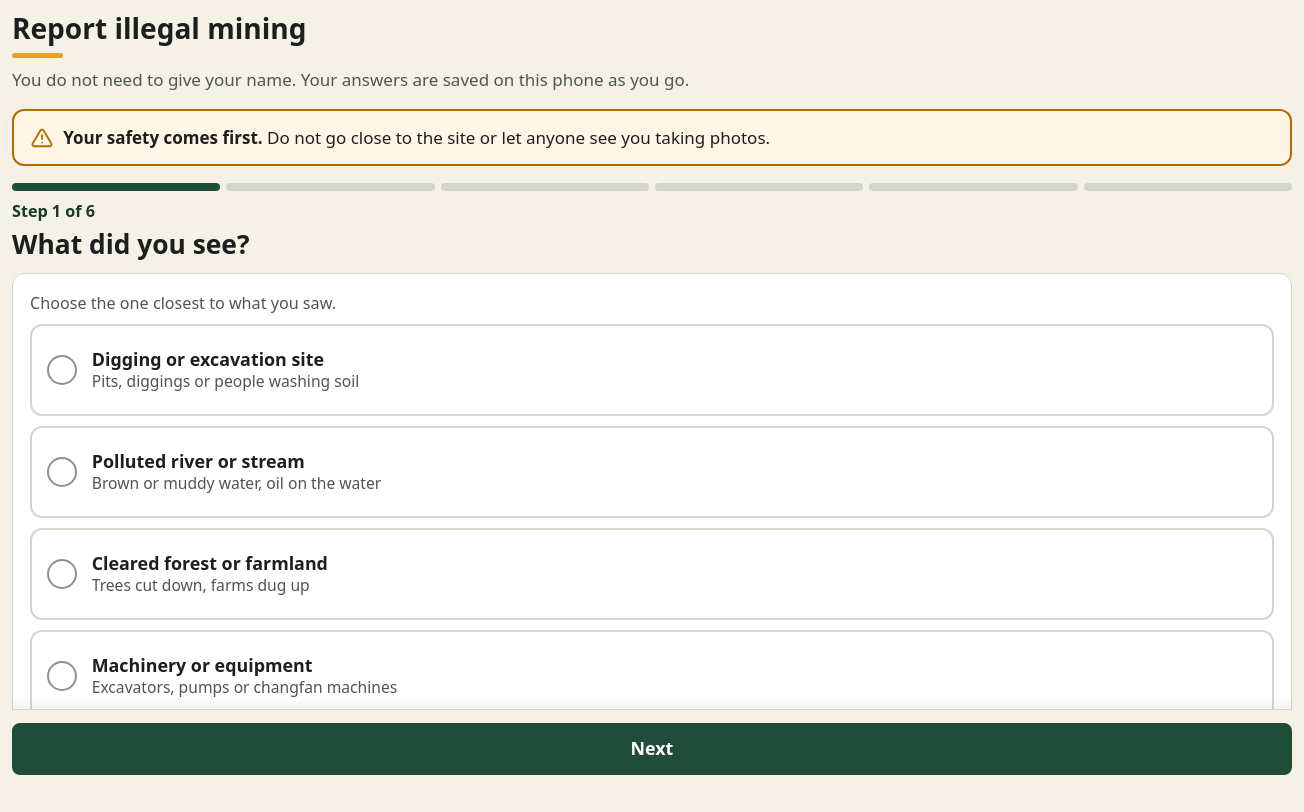
Scenario: ReportPage, step by step › checks a field when the reporter leaves it, but not when they only pass through
The width and height of the screenshot is (1304, 812).
Click the radio button labelled "Digging or excavation site": [208, 359] box [30, 324, 1274, 416]
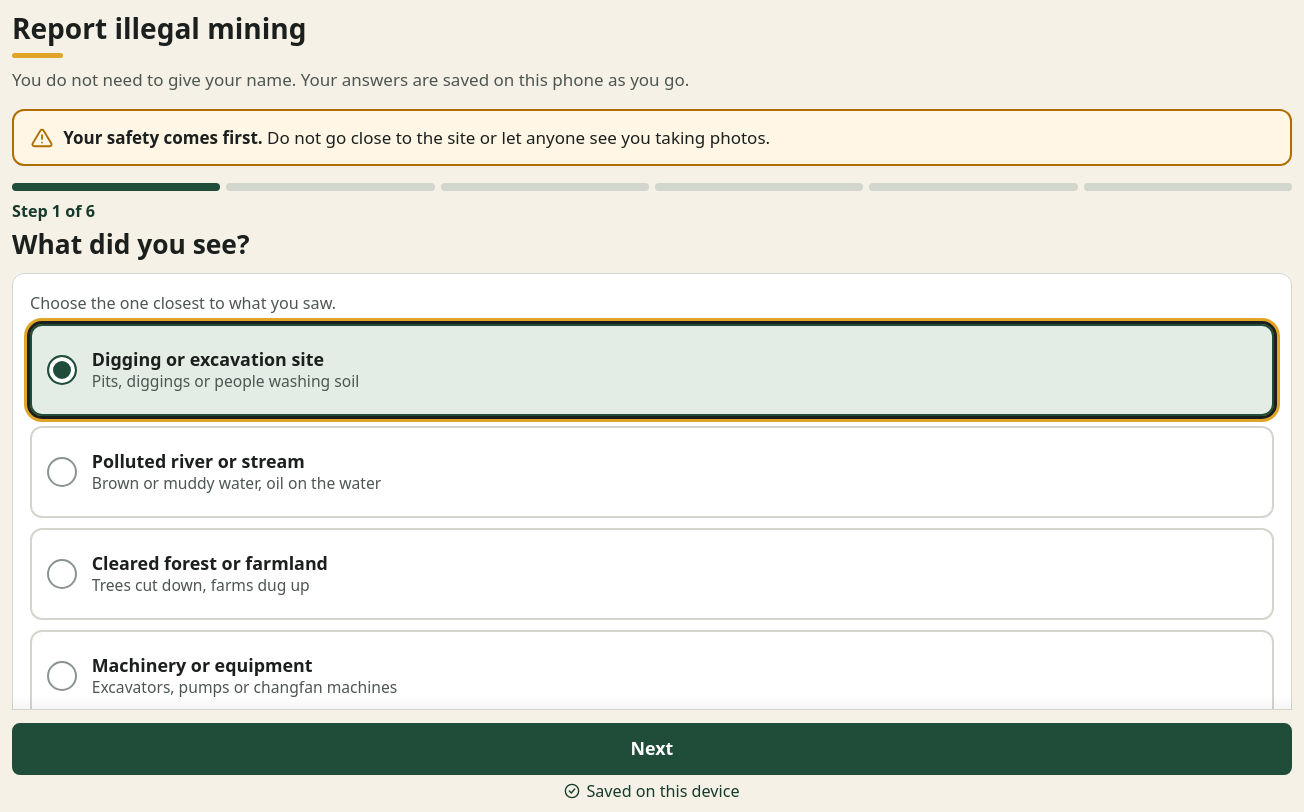
Click the button "Next": [652, 749] box [12, 723, 1292, 775]
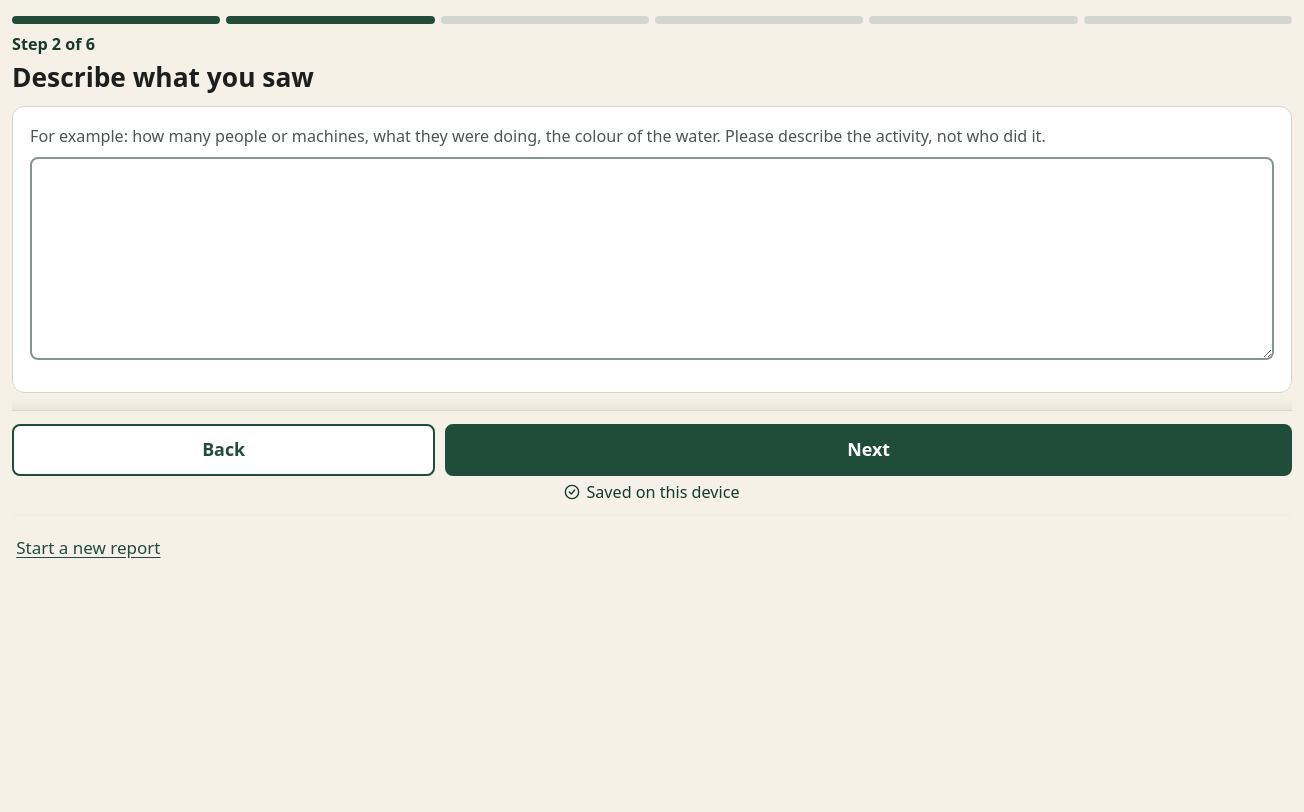
Click the text box named "Describe what you saw": [652, 259] box [30, 157, 1274, 360]
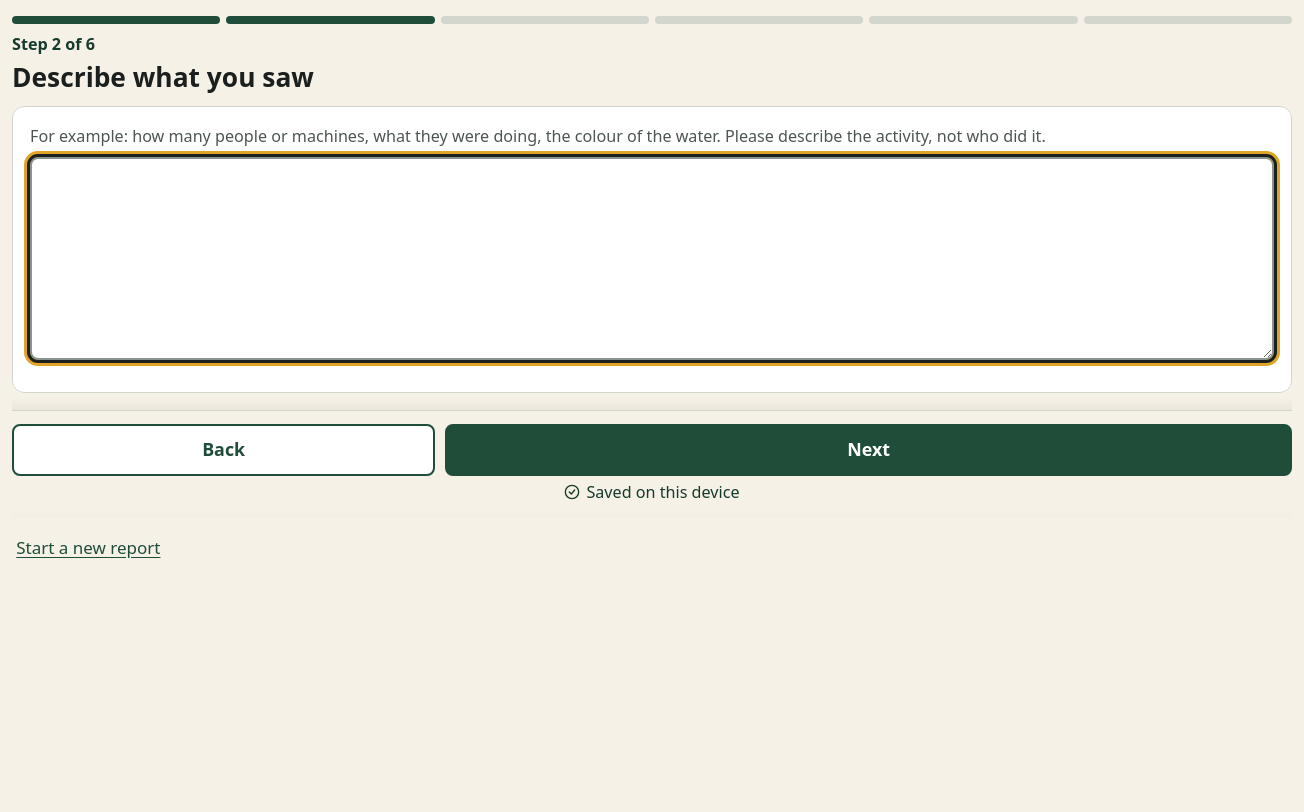
Press Tab
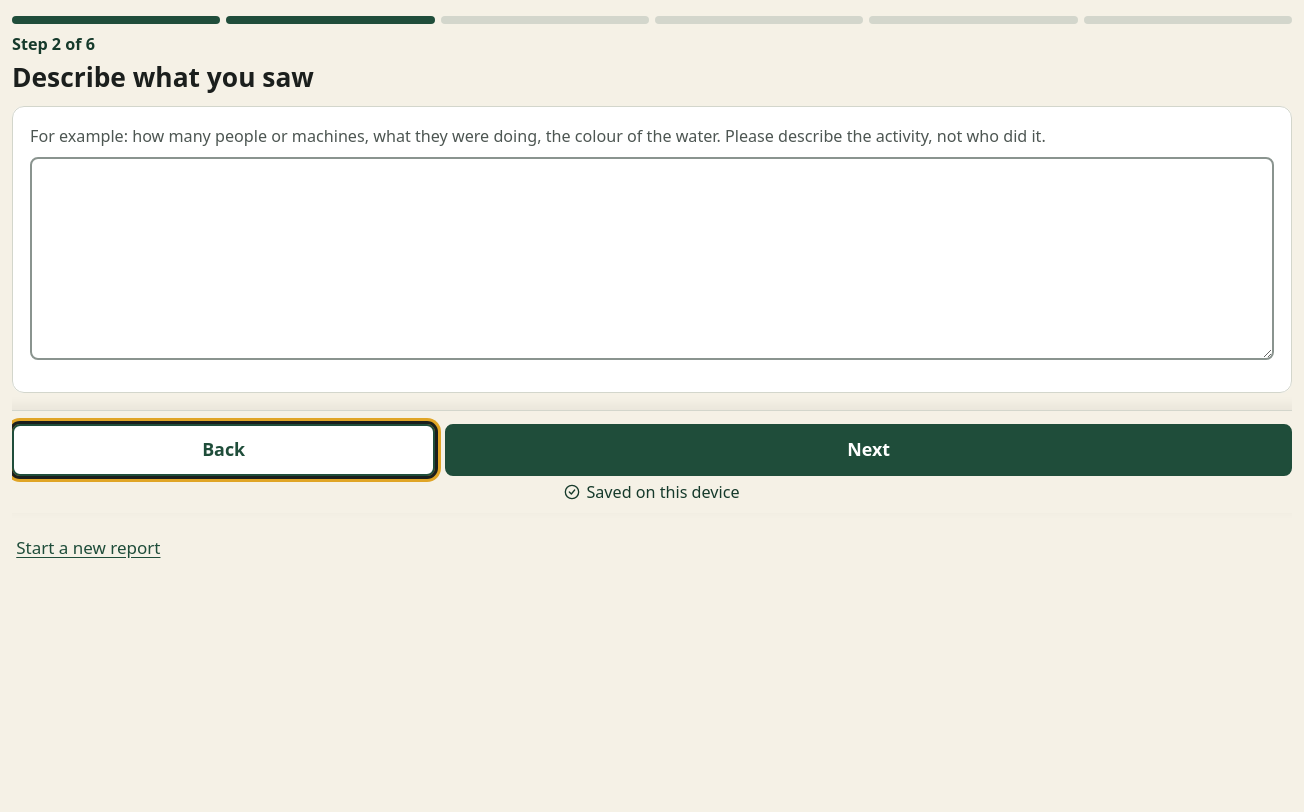
Expected: the text "at least 10 characters" is not shown
In the text box named "Describe what you saw": [652, 259] box [30, 157, 1274, 360], type "diggers"
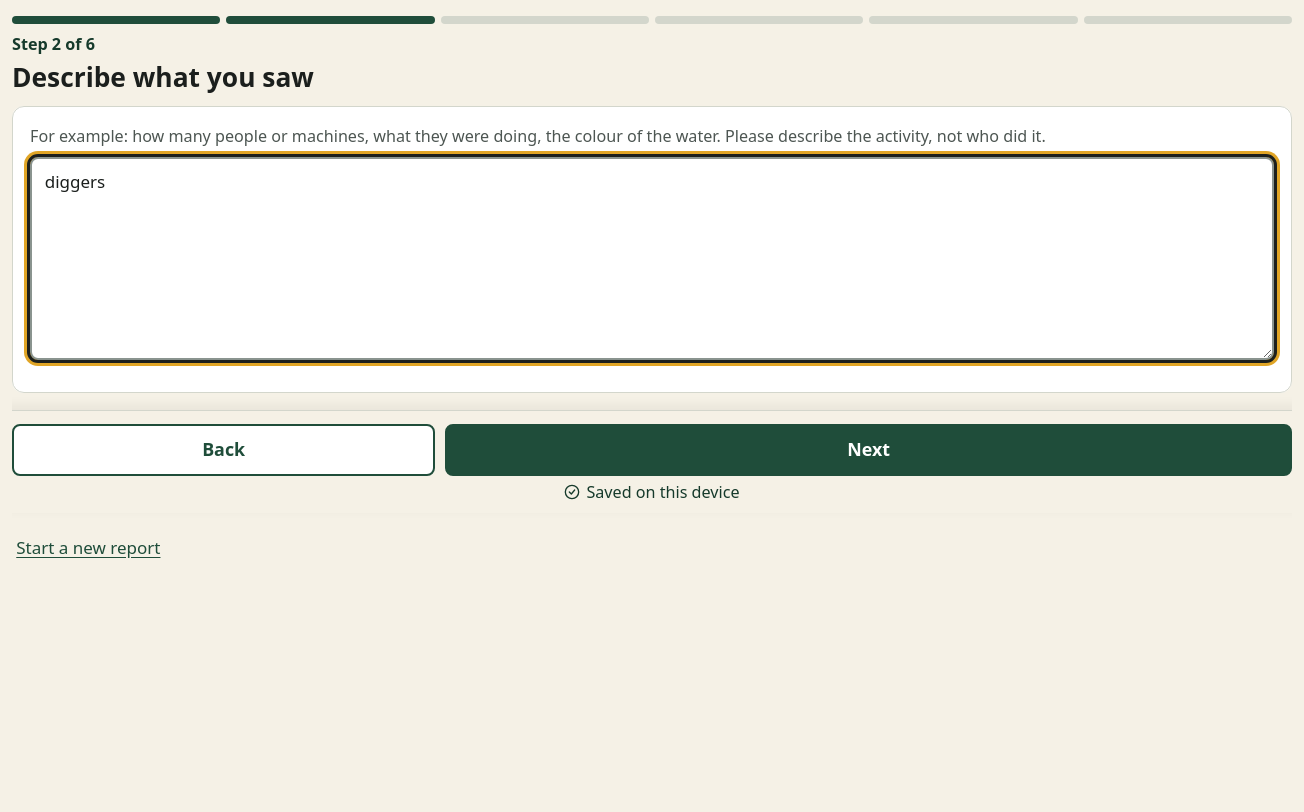
Press Tab
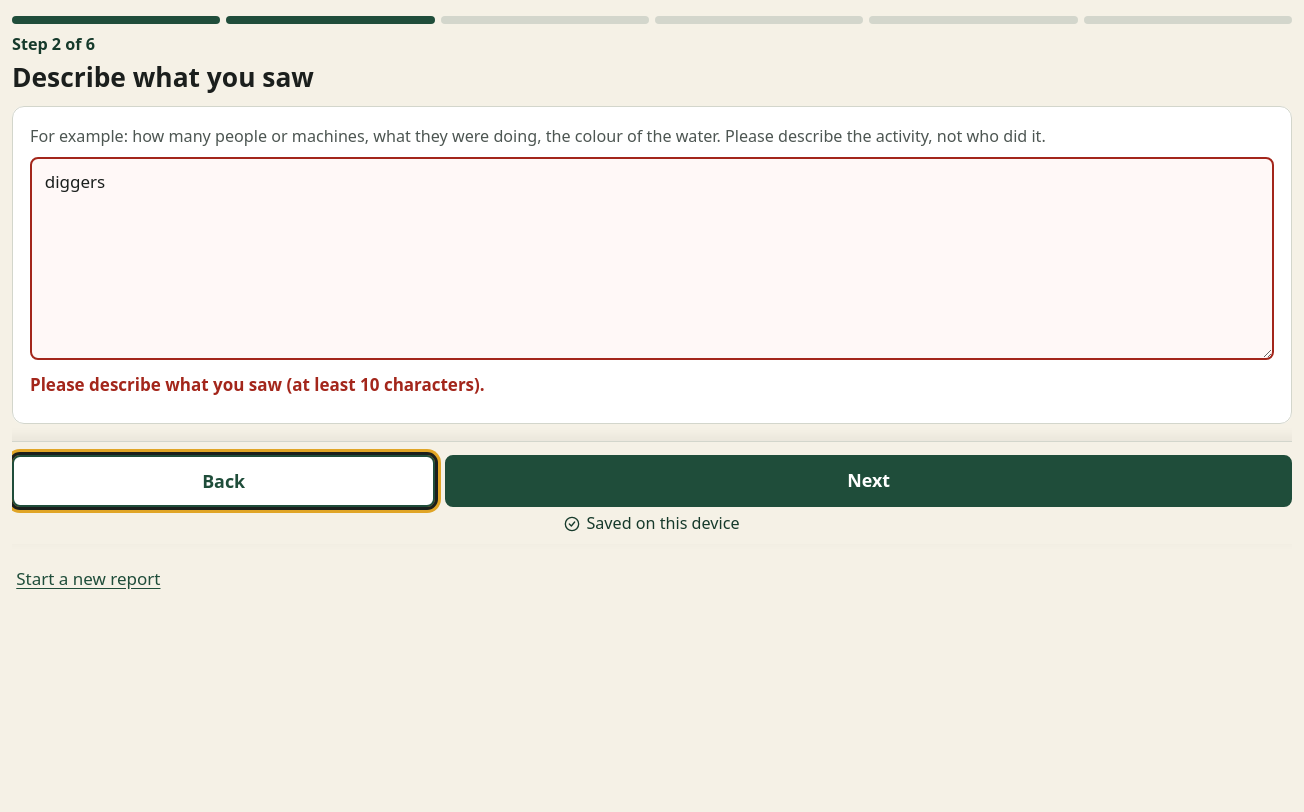
Expected: the text "Please describe what you saw (at least 10 characters)." is shown, [30, 374, 485, 396]
